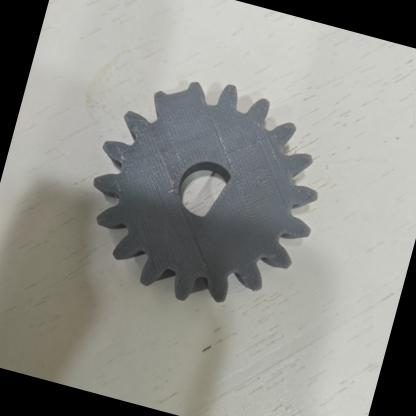defect: (177, 159, 256, 232), (141, 69, 224, 123)
gear: (70, 58, 342, 328)
